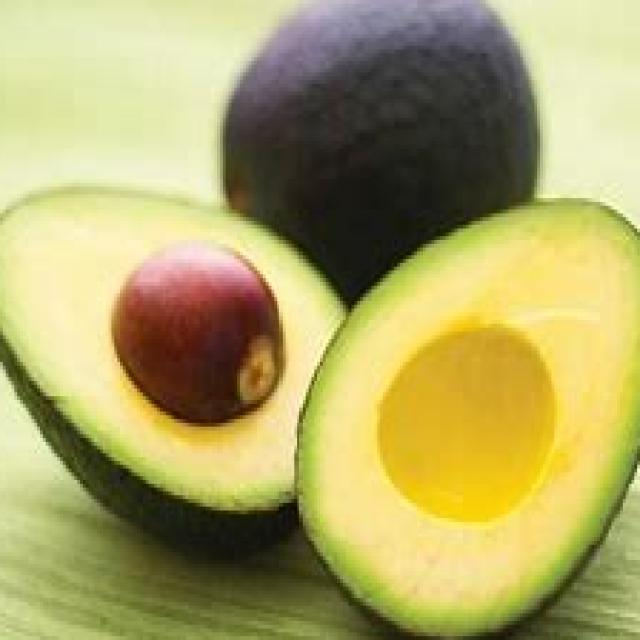avocado: (296, 201, 640, 637), (0, 171, 350, 538)
